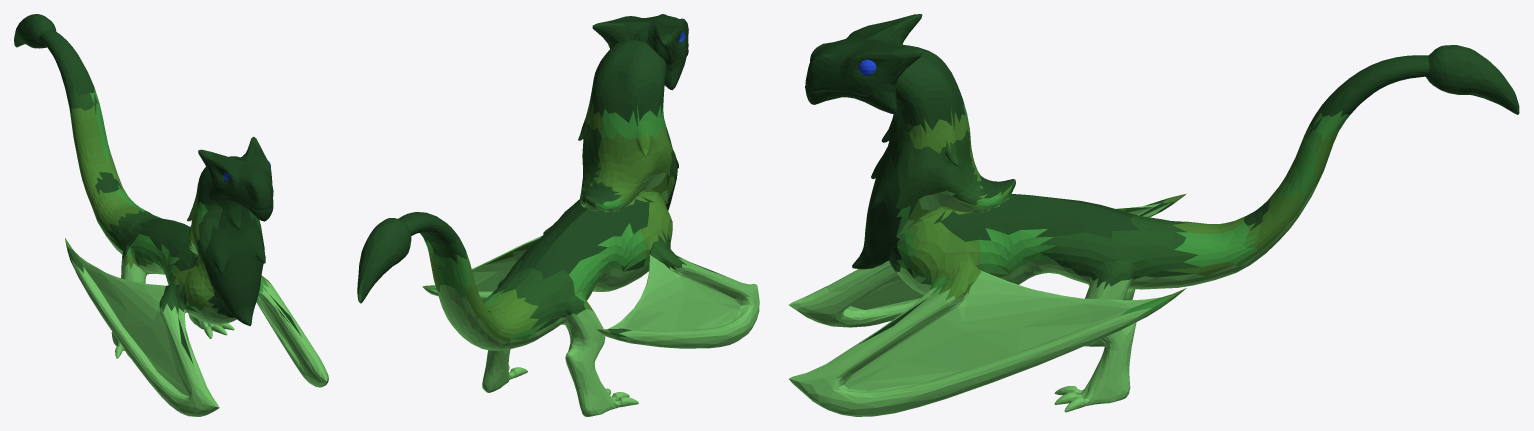
File: wyvern.obj
3 views of the same model, side by side, from view 1: azimuth 30°, elevation 25°; view 2: azimuth 150°, elevation 25°; view 3: azimuth 270°, elevation 25° (orthographic). The views are drawn at different scales.
Visible parts, largest first — view 1: wyvern; view 2: wyvern; view 3: wyvern.
Boxes of the visible parts, x1,y1,x2,y2 form: wyvern: [14, 14, 328, 416]; wyvern: [357, 14, 759, 416]; wyvern: [789, 14, 1519, 416].
Bounding box in the file's own units: 2.45 × 3.62 × 7.05.
